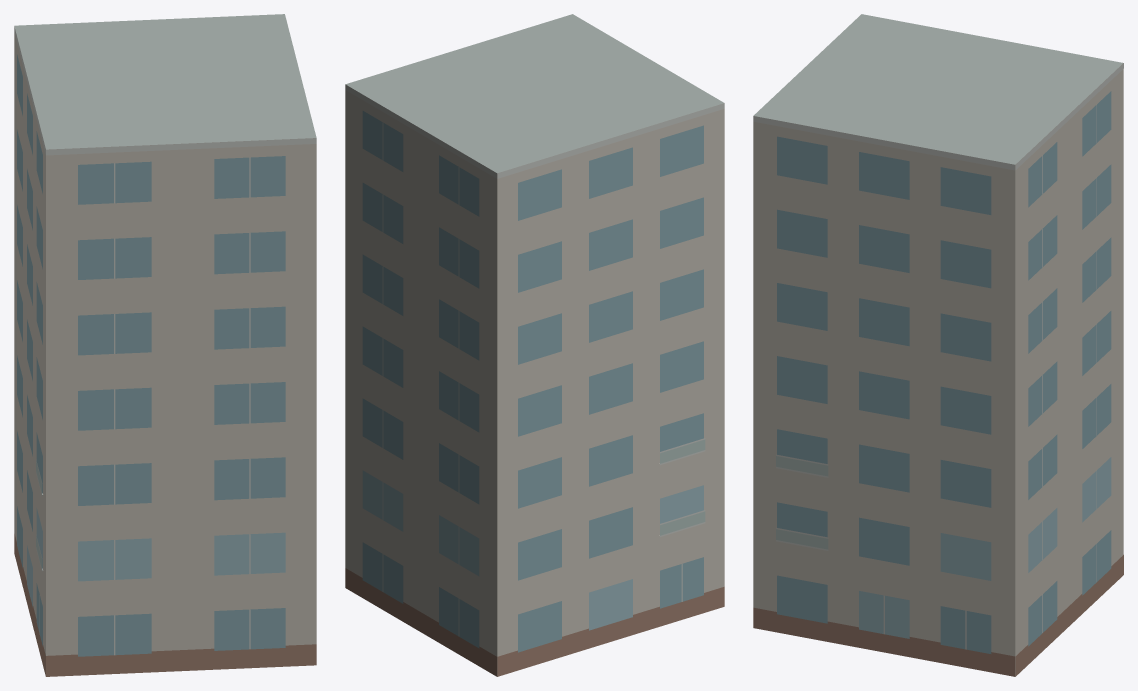
File: survey-upis-32934259.glb
The picture shows the model from 3 angles, left to right: view 1: azimuth 30°, elevation 25°; view 2: azimuth 150°, elevation 25°; view 3: azimuth 270°, elevation 25°; orthographic projection. The views are drawn at different scales.
Parts seen in each view (by area): view 1: survey-upis-32934259.tmp; view 2: survey-upis-32934259.tmp; view 3: survey-upis-32934259.tmp.
Part boxes in pixels (bbox=[...]): survey-upis-32934259.tmp: bbox=[14, 14, 316, 676]; survey-upis-32934259.tmp: bbox=[345, 14, 724, 676]; survey-upis-32934259.tmp: bbox=[753, 14, 1123, 676].
Bounding box in the file's own units: 13.77 × 21.8 × 14.3.
